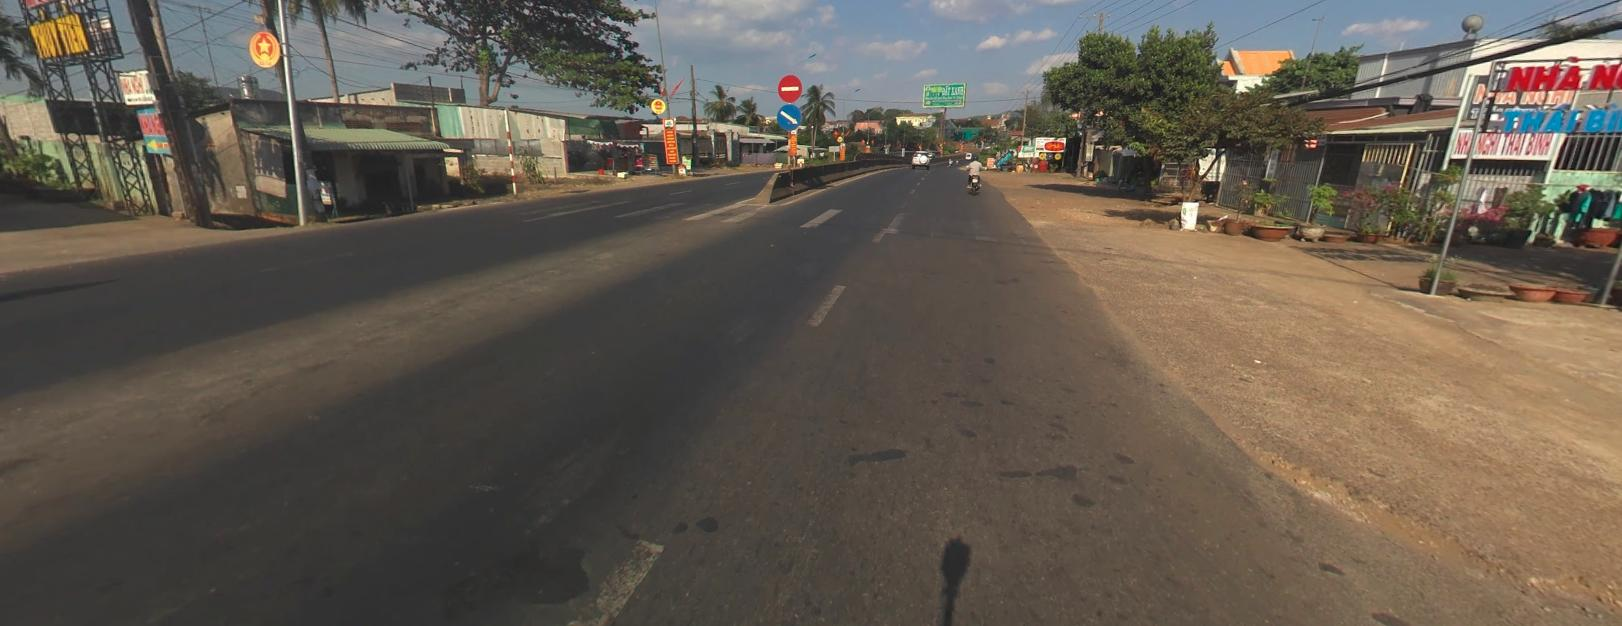Cam nguoc chieu: (778, 74, 801, 101)
Hieu lenh: (777, 103, 800, 130)
